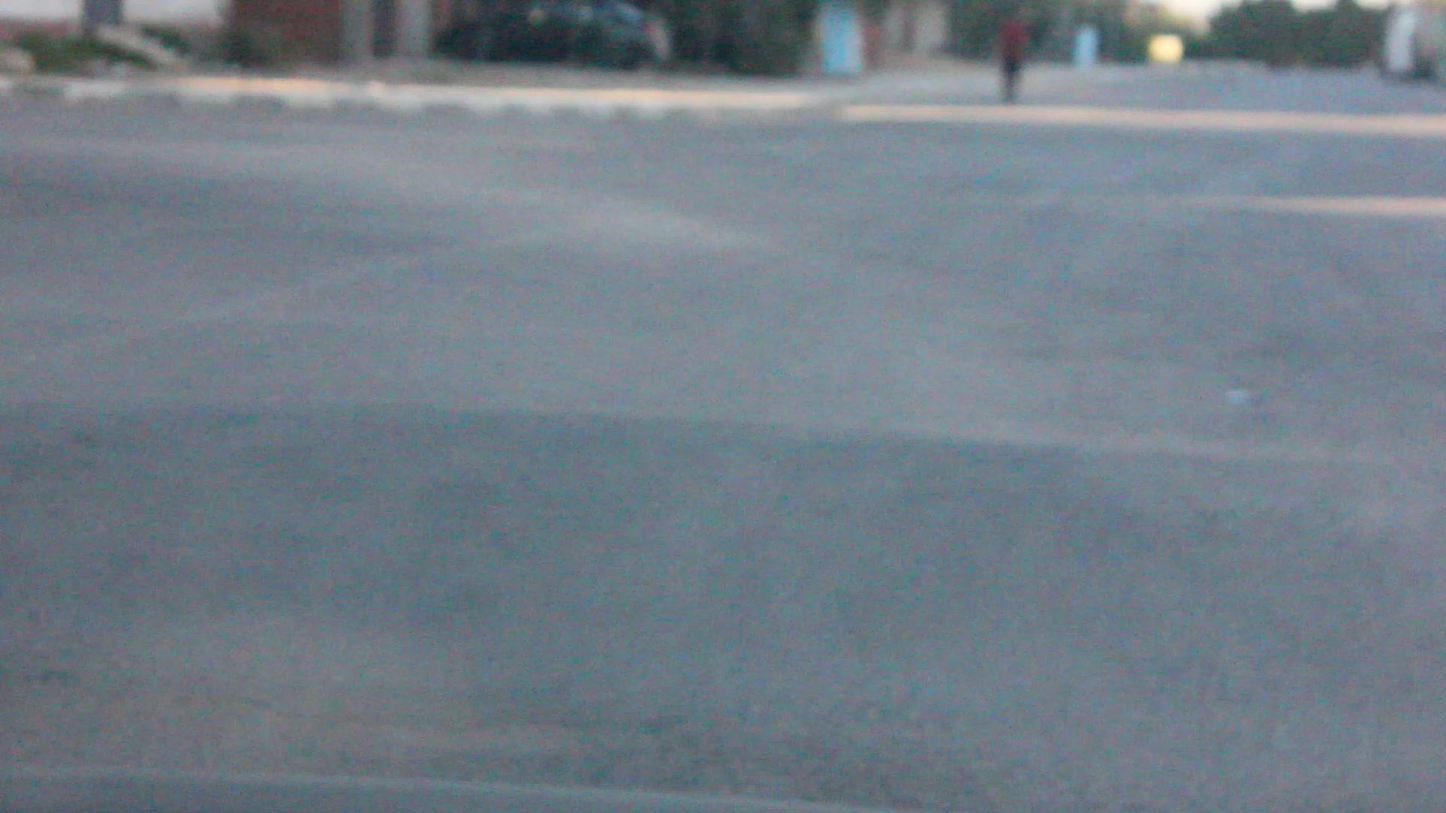Bump: (9, 352, 1446, 642)
